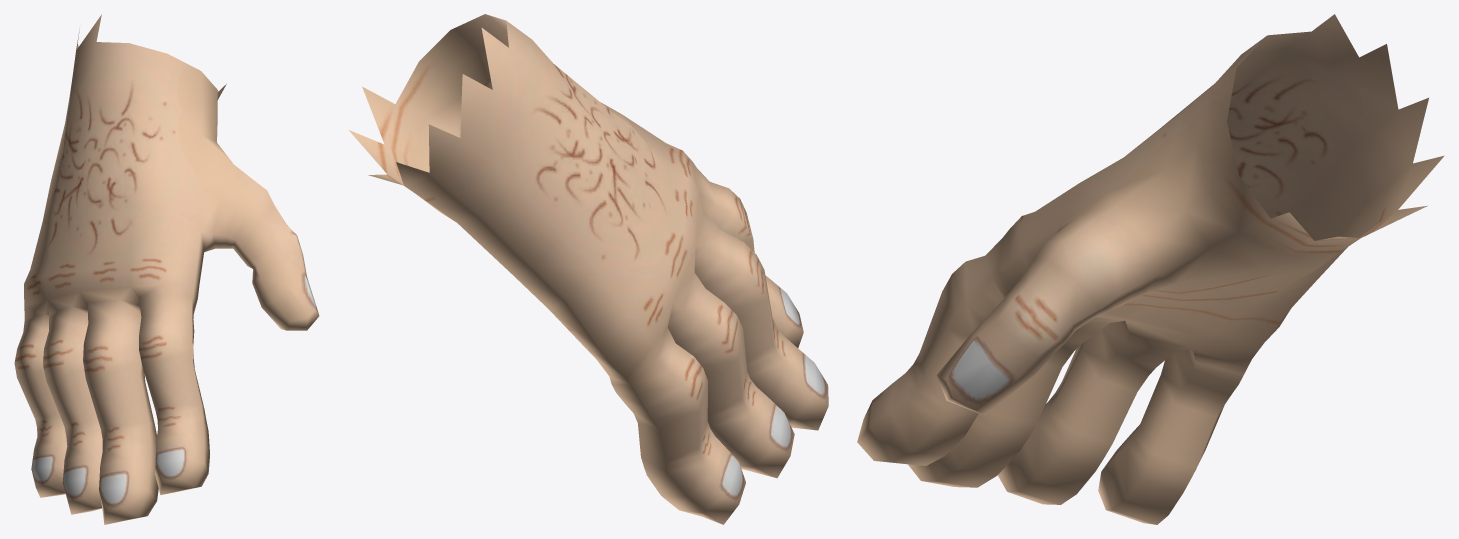
The model's file is crazydave_mano_der.obj.
The picture shows the model from 3 angles, left to right: view 1: azimuth 30°, elevation 25°; view 2: azimuth 150°, elevation 25°; view 3: azimuth 270°, elevation 25°; orthographic projection. The views are drawn at different scales.
Parts seen in each view (by area): view 1: crazydave_mano_der; view 2: crazydave_mano_der; view 3: crazydave_mano_der.
Part boxes in pixels (x1,y1,x2,y2): crazydave_mano_der: (14,14,319,524); crazydave_mano_der: (349,14,828,524); crazydave_mano_der: (857,14,1444,524).
Size of the model in its own units: 0.2153 by 0.3379 by 0.3083.
